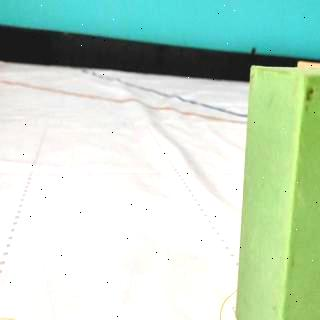greenbox: (232, 63, 320, 320)
